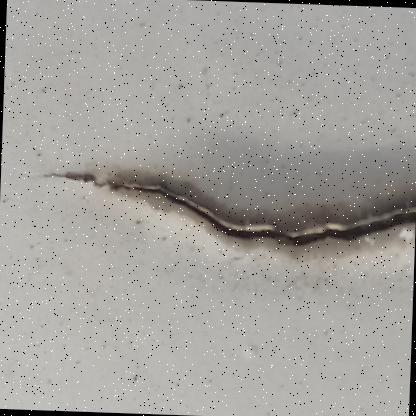Crack: (18, 127, 415, 287)
